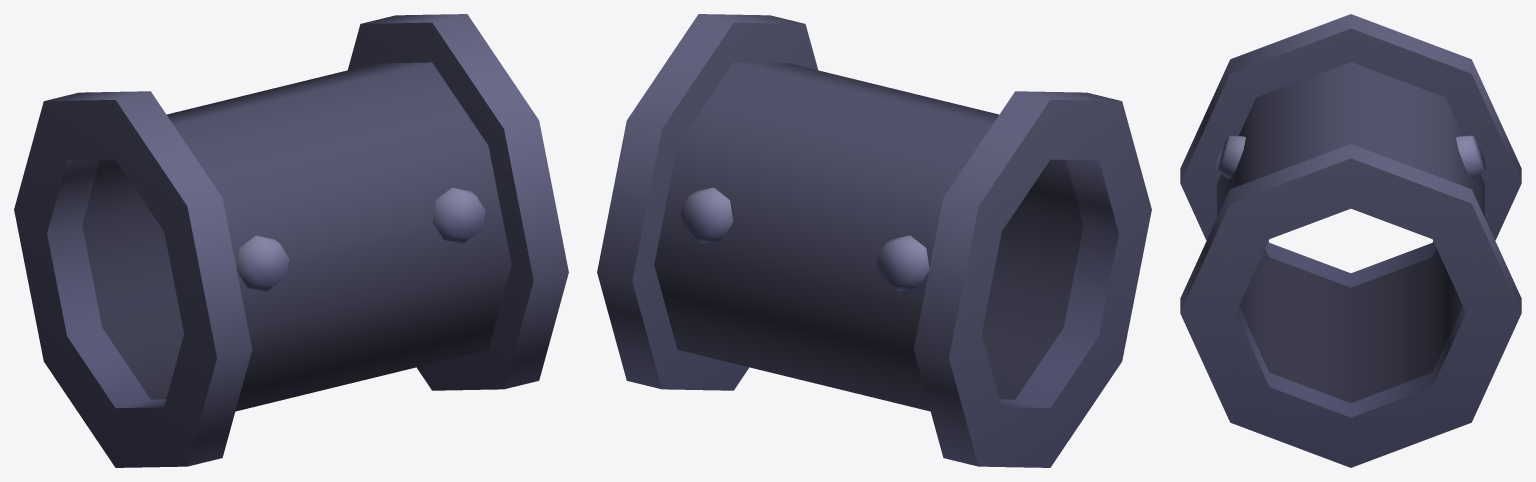
Rendered from pipe-large.glb.
3 views of the same model, side by side, from view 1: azimuth 30°, elevation 25°; view 2: azimuth 150°, elevation 25°; view 3: azimuth 270°, elevation 25° (orthographic). The views are drawn at different scales.
Parts seen in each view (by area): view 1: pipe-large; view 2: pipe-large; view 3: pipe-large.
Part boxes in pixels (bbox=[...]): pipe-large: bbox=[14, 14, 568, 467]; pipe-large: bbox=[597, 14, 1151, 467]; pipe-large: bbox=[1180, 14, 1521, 467].
Size of the model in its own units: 1 by 1 by 1.
